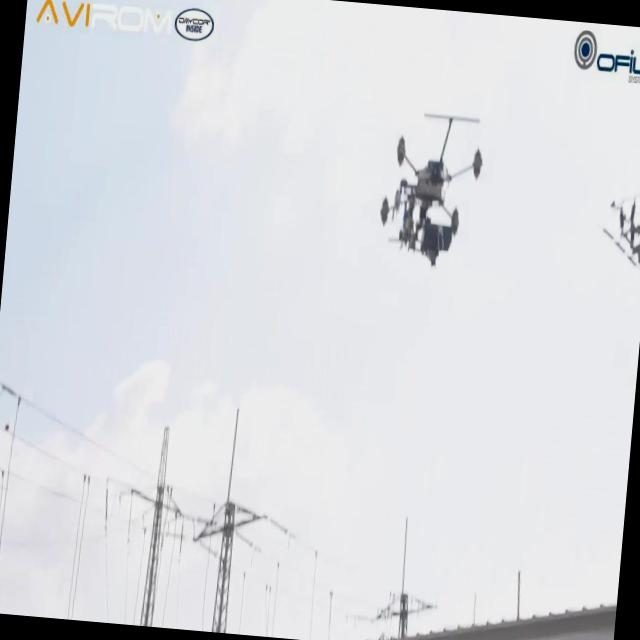drone: (372, 106, 488, 274)
